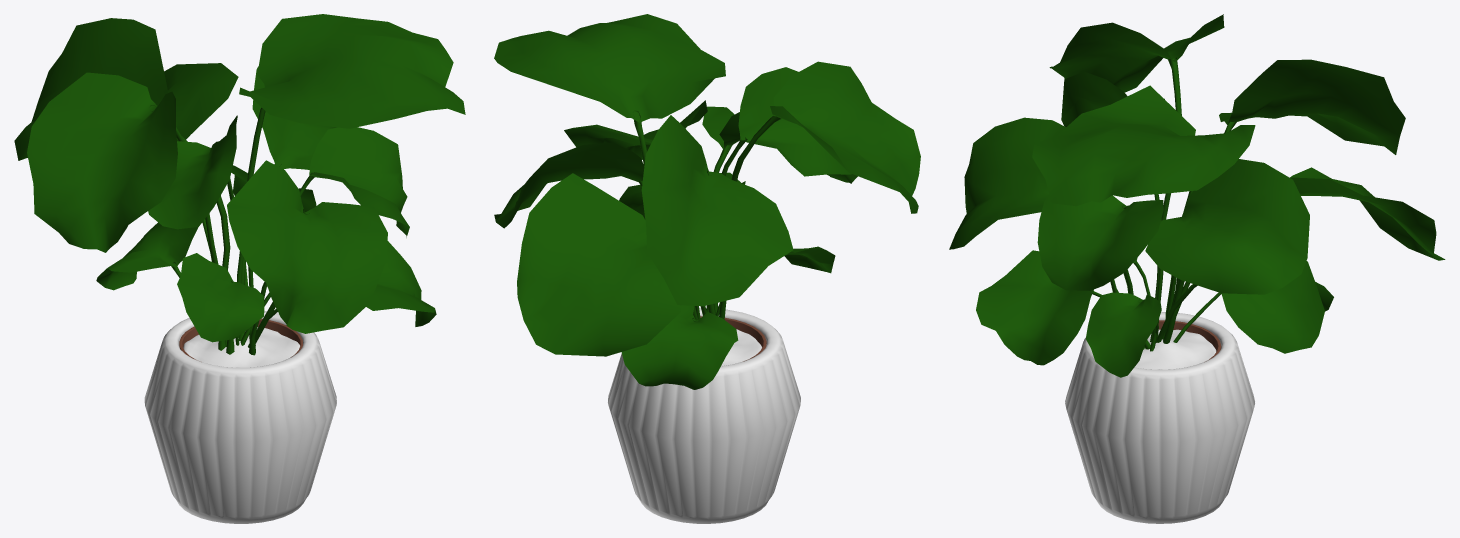
File: B_Plant_B.fbx
3 renders of one model, left to right at view 1: azimuth 30°, elevation 25°; view 2: azimuth 150°, elevation 25°; view 3: azimuth 270°, elevation 25°, orthographic.
Visible parts, largest first — view 1: B_Plant_B; view 2: B_Plant_B; view 3: B_Plant_B.
Boxes of the visible parts, box(x1,y1,x2,y2) form: B_Plant_B: box(14, 14, 465, 523); B_Plant_B: box(494, 14, 920, 523); B_Plant_B: box(949, 14, 1445, 523).
Size of the model in its own units: 52.84 by 54.29 by 56.28.
